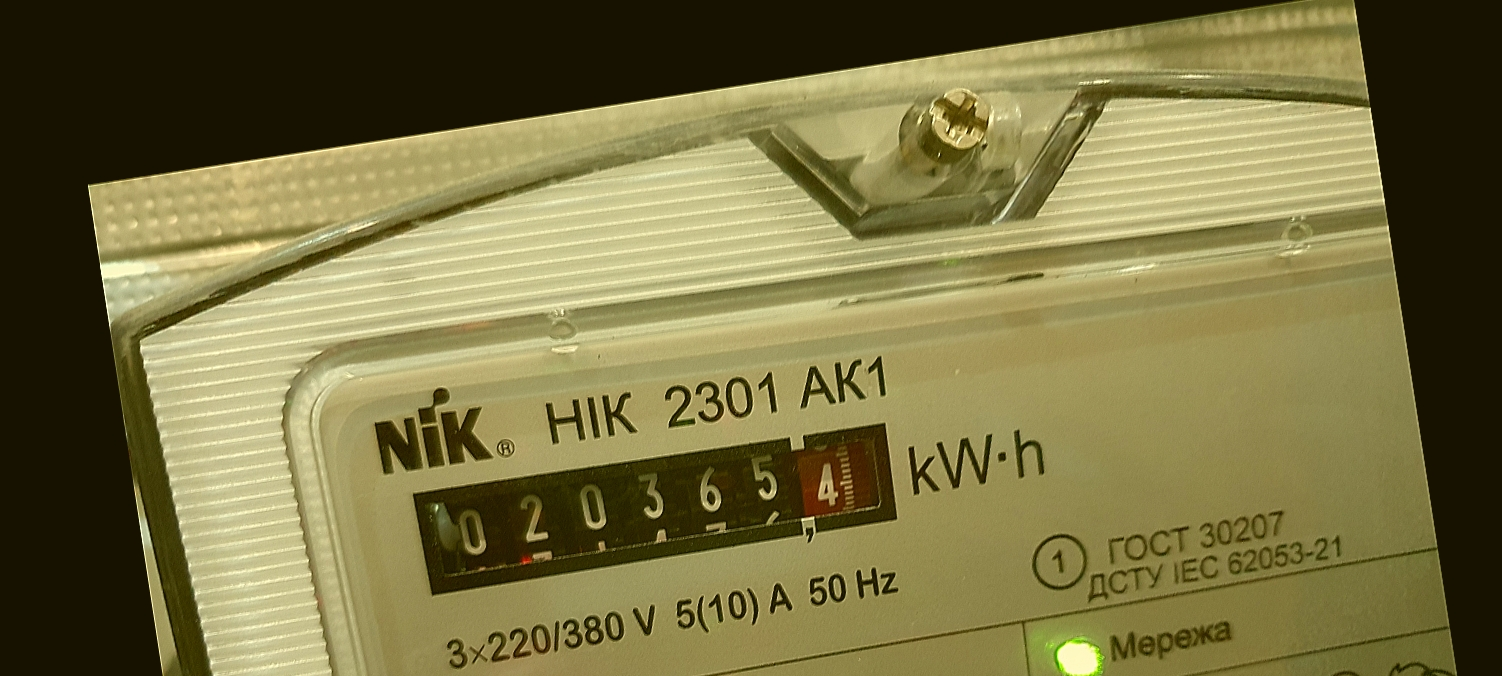0: (451, 501, 492, 560), (575, 479, 612, 533)
2: (514, 489, 552, 543)
3: (633, 468, 669, 521)
4: (810, 457, 840, 508)
5: (749, 451, 782, 502)
6: (692, 460, 725, 514)
screen: (396, 401, 919, 613)
